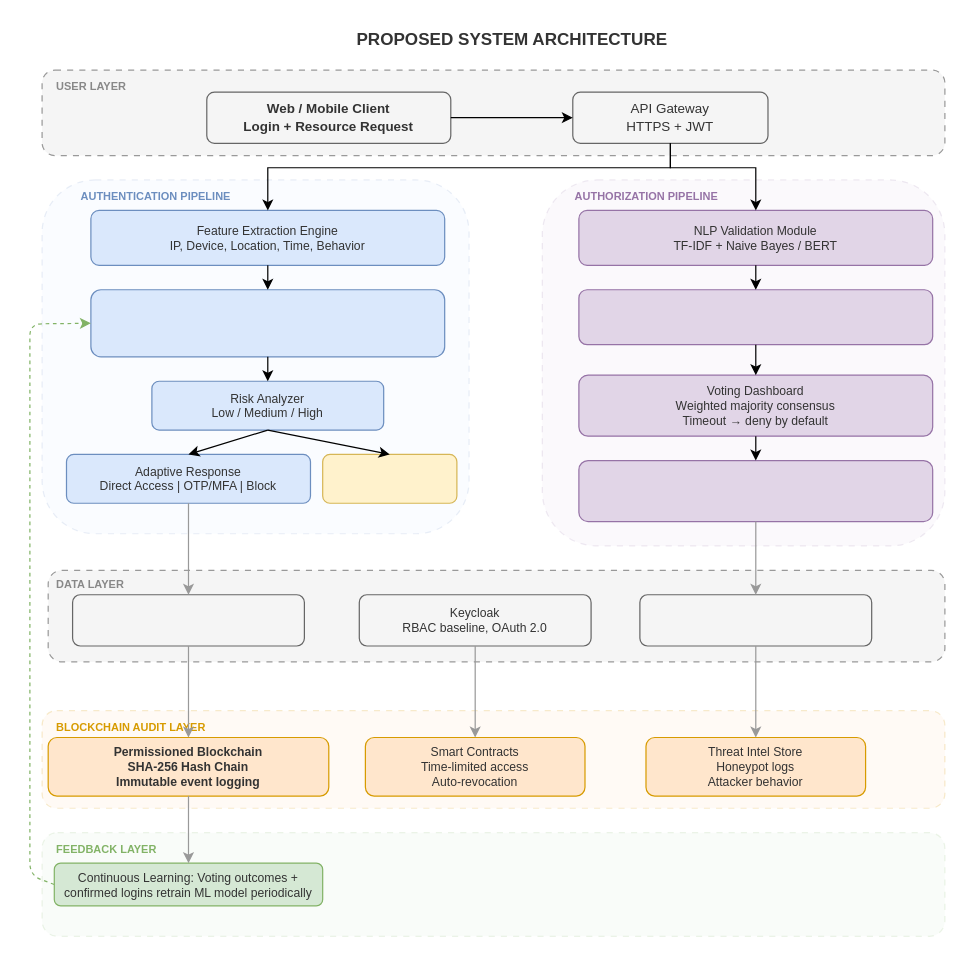
Image size: 966x958. Some labels were removed from this diagram. Here are the shapes that lost their labels. From the top down, the centre of each, then its label:
point (267, 323): ML Risk Scoring Engine Logistic Regression + Random Forest
point (755, 317): LLM Voter Selection Picks: Owner, Supervisor, Dept Head
point (389, 478): Honeypot Module Fake env for stolen creds
point (755, 490): Access Control Engine Smart Contracts Scope + Duration + Auto-revoke
point (187, 620): MongoDB User profiles, logs, config
point (755, 620): ML Model Store scikit-learn, PyTorch
